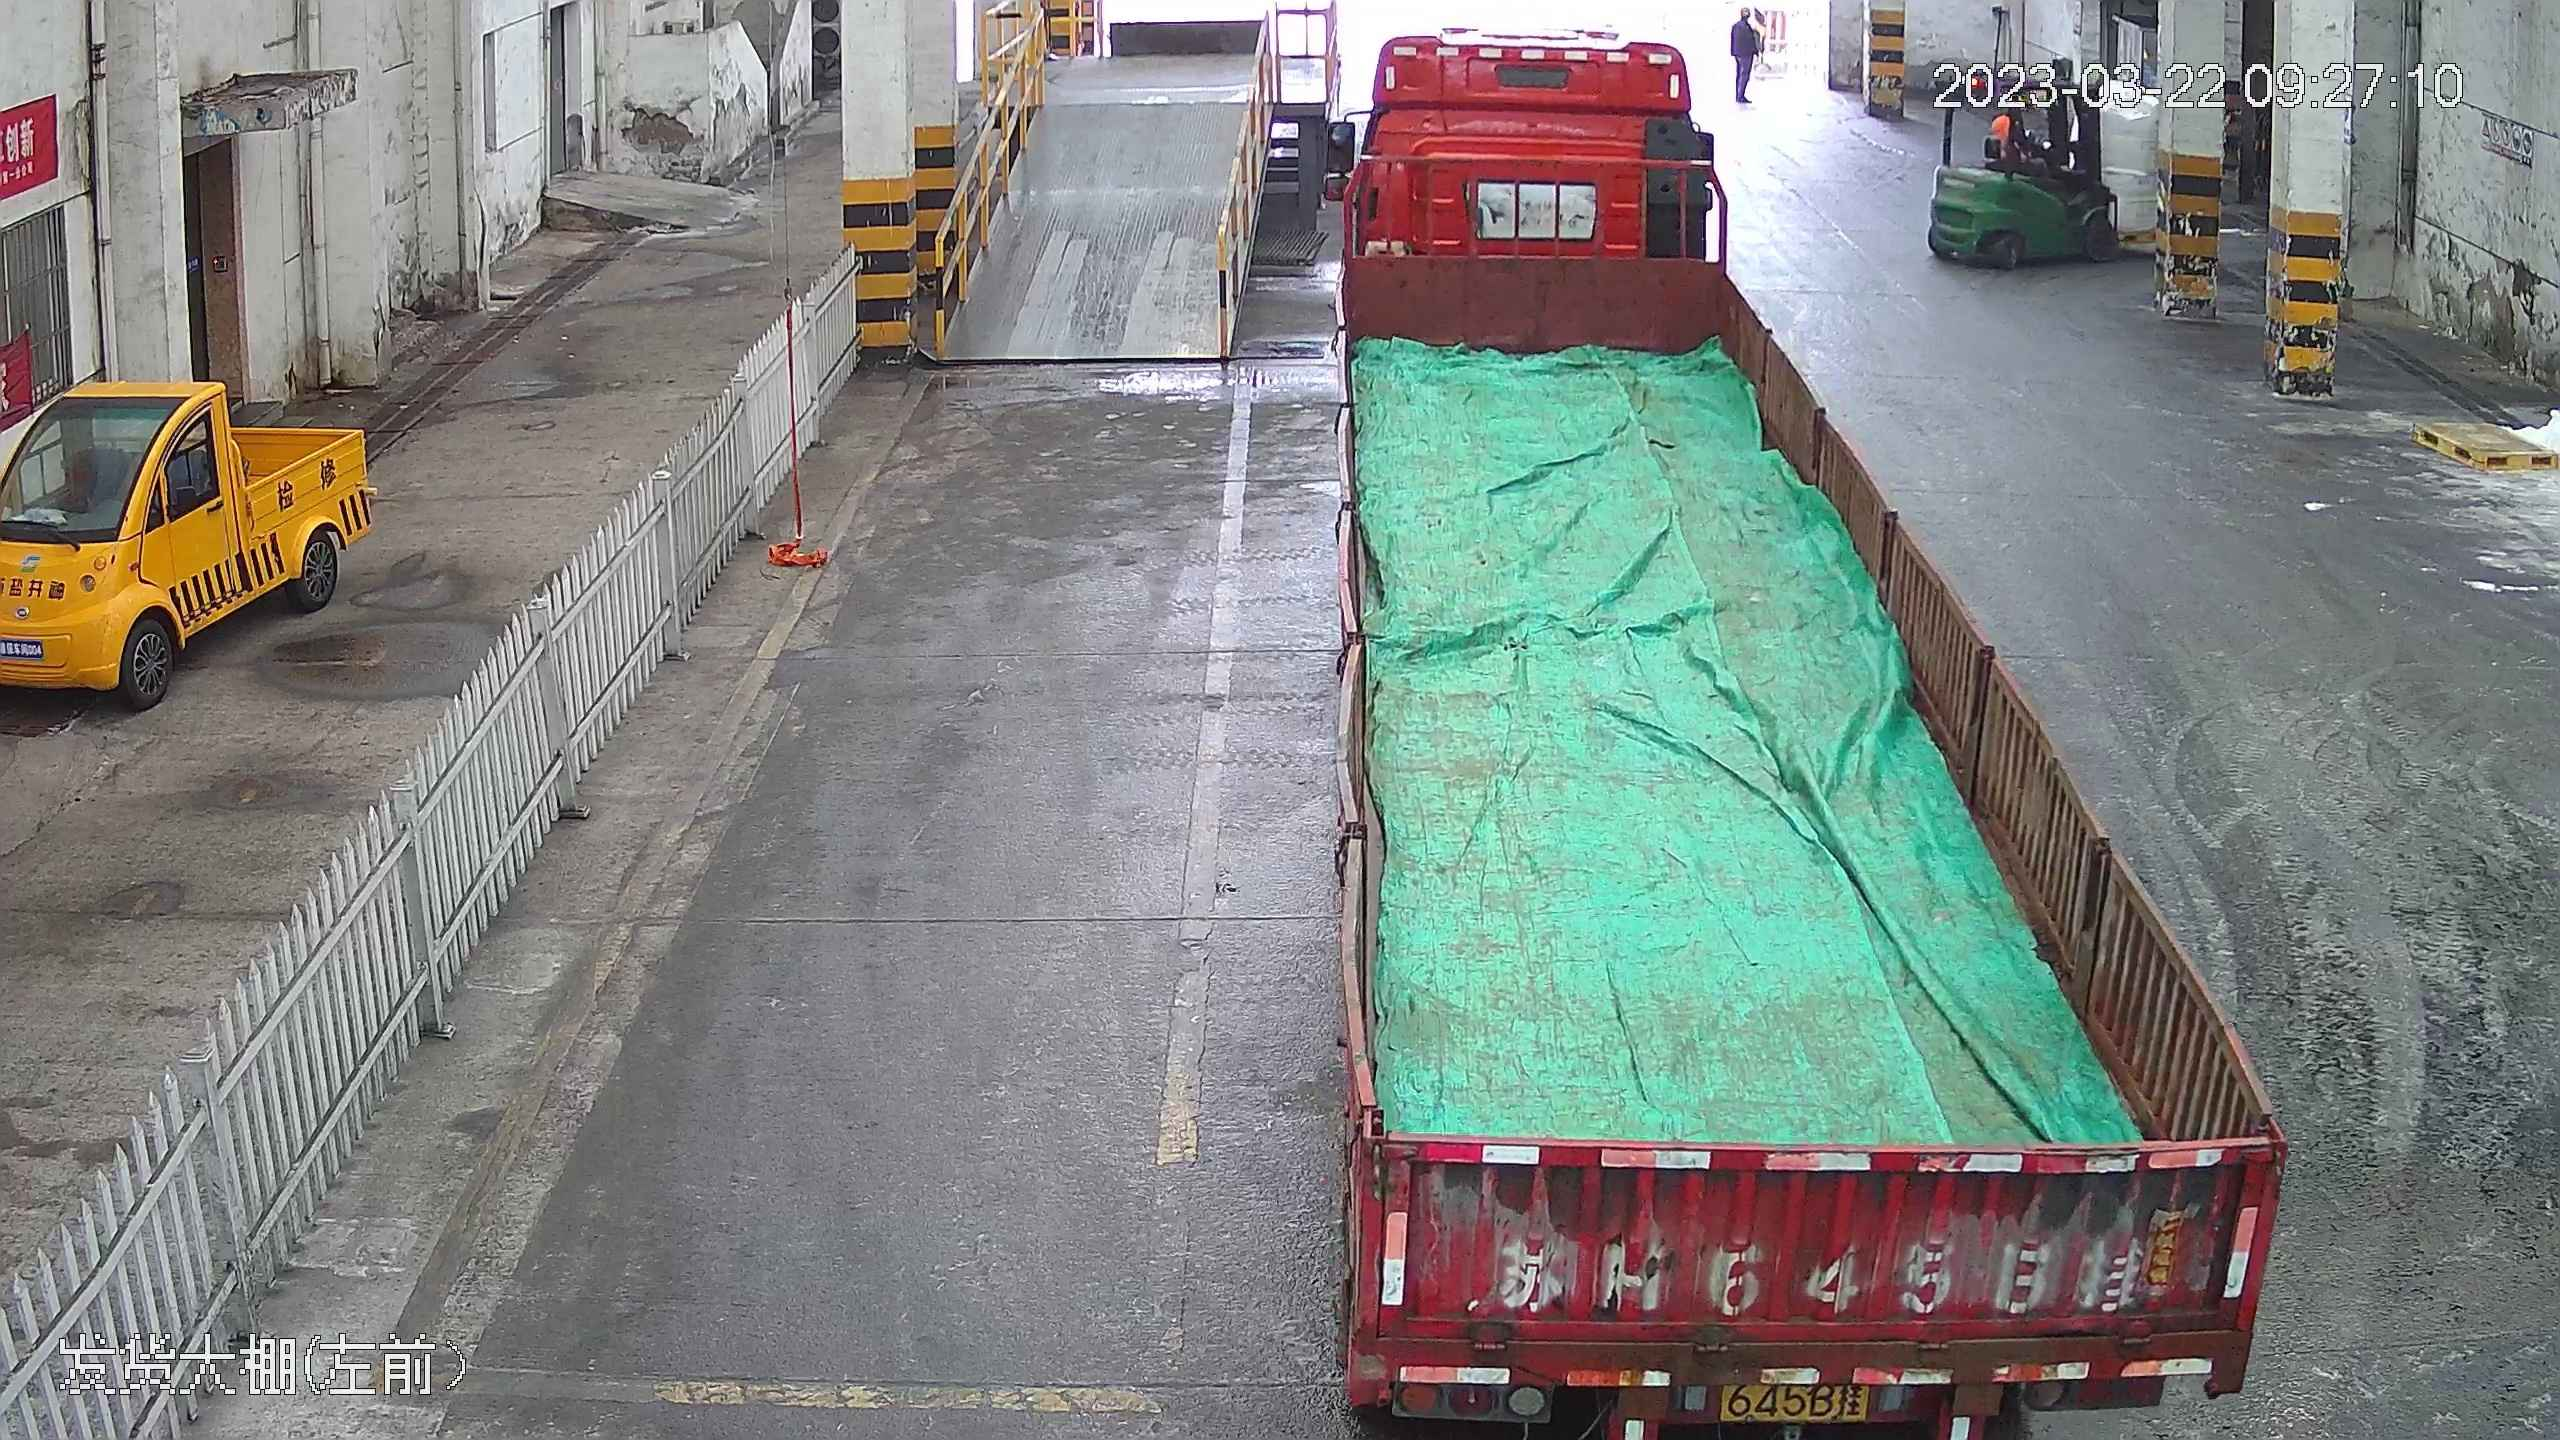head: (1730, 3, 1764, 33)
helmet: (1741, 6, 1750, 20)
people: (1726, 2, 1771, 107)
truck: (1296, 10, 2390, 1435)
